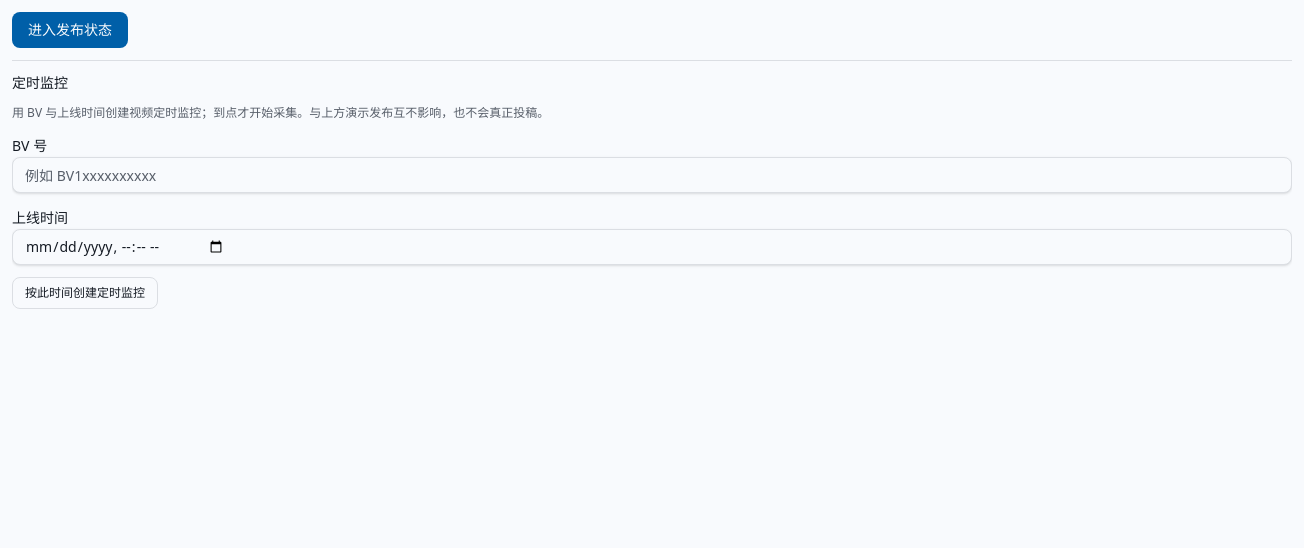
Test case: PublishPanel scheduled monitor › demo publish copy stays non-shipping and does not block monitor create UI
Click the button "进入发布状态": coordinates (70, 30) [12,12,128,48]
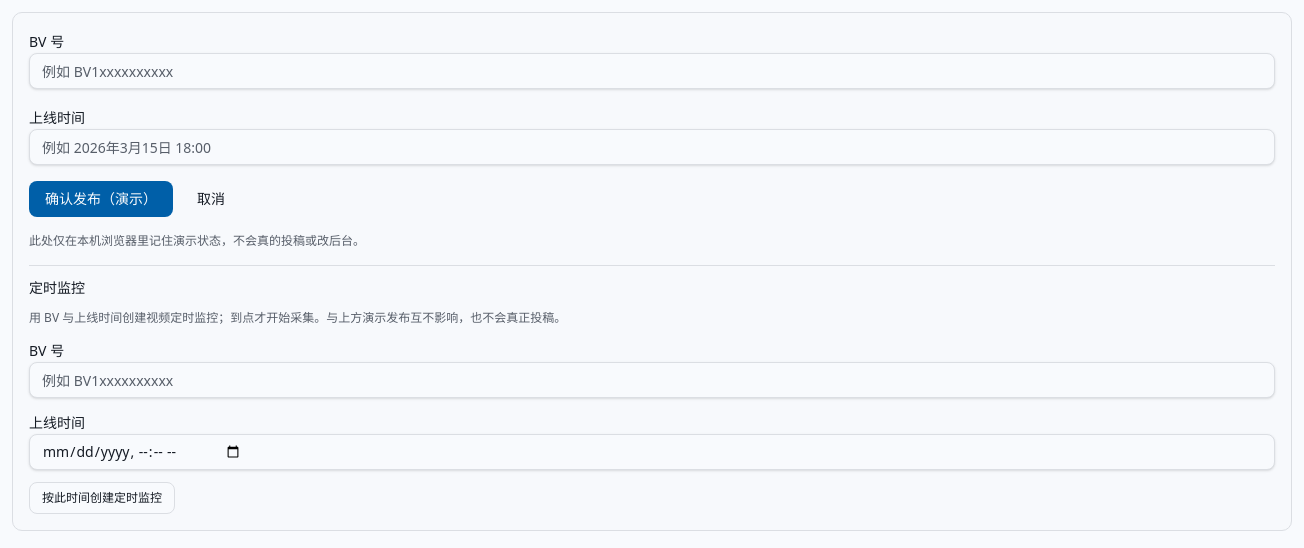
Expected: the button "按此时间创建定时监控" is shown, [29,482,175,514]
Expected: the text "此处仅在本机浏览器里记住演示状态，不会真的投稿或改后台。" is shown, [29,232,365,249]
Expected: the button "确认发布（演示）" is shown, [29,181,173,217]
